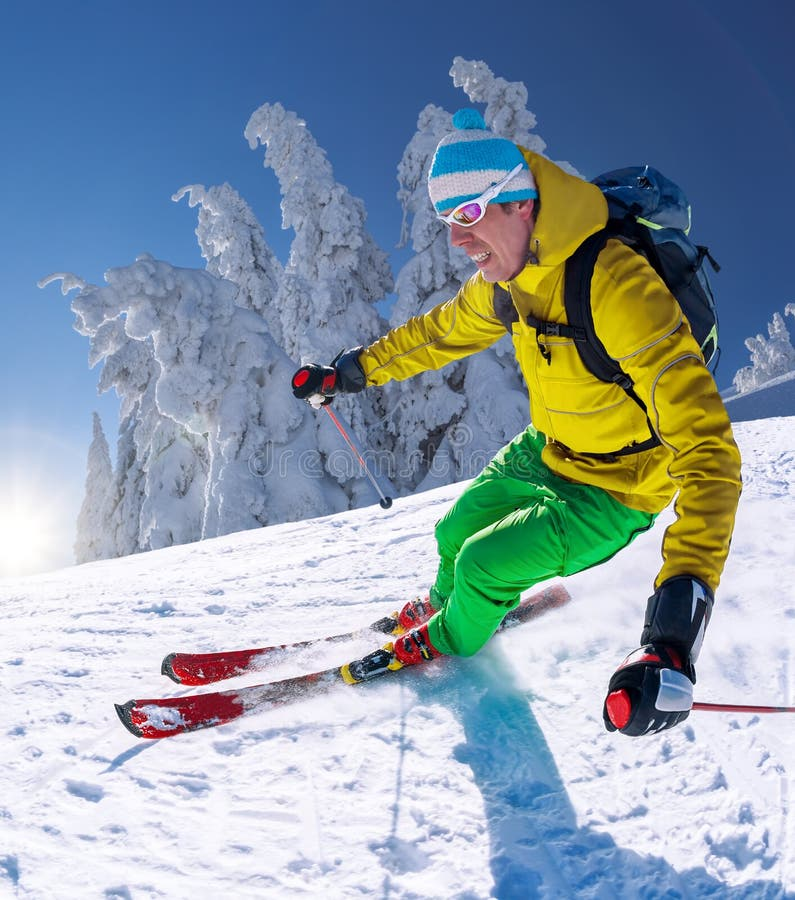skier: (90, 118, 792, 765)
